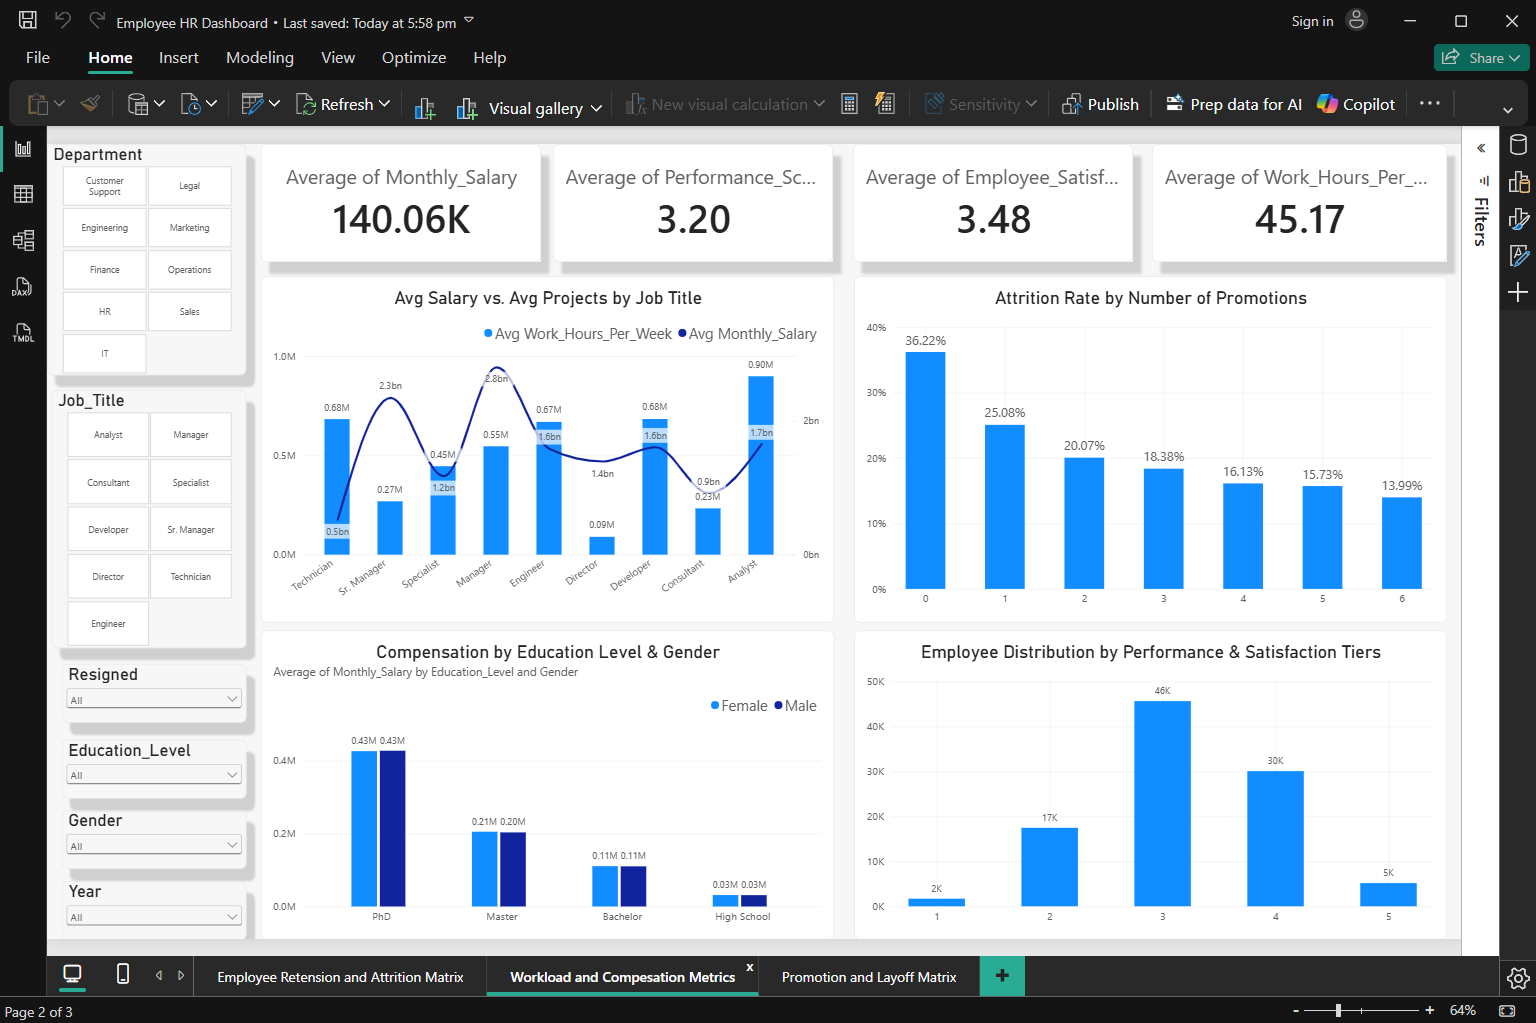

Layout of this report page (visuals, bound fields, positions):
{"tool":"powerbi","page":{"name":"Workload and Compesation Metrics","canvas":[1920,1080],"ordinal":1},"visuals":[{"type":"slicer","fields":{"Values":["employee_hr_db vw_fact_record.Resigned"]},"box":[20,706,250,80],"z":0},{"type":"slicer","fields":{"Values":["employee_hr_db vw_dim_employee.Department"]},"box":[0,0,270,314],"z":1000},{"type":"slicer","fields":{"Values":["employee_hr_db vw_dim_employee.Job_Title"]},"box":[6,334,264,350],"z":2000},{"type":"slicer","fields":{"Values":["employee_hr_db vw_dim_employee.Education_Level"]},"box":[20,808,250,80],"z":3000},{"type":"slicer","fields":{"Values":["employee_hr_db vw_dim_employee.Gender"]},"box":[20,904,250,80],"z":4000},{"type":"slicer","fields":{"Values":["employee_hr_db vw_fact_record.Hire_Date.Variation.Date Hierarchy.Year"]},"box":[20,1000,250,80],"z":5000},{"type":"cardVisual","fields":{"Data":["Avg(employee_hr_db vw_fact_record.Monthly_Salary)"]},"box":[290,0,380,160],"z":6000},{"type":"cardVisual","fields":{"Data":["Avg(employee_hr_db vw_fact_record.Performance_Score)"]},"box":[687.2,0,380,160],"z":7000},{"type":"cardVisual","fields":{"Data":["Avg(employee_hr_db vw_fact_workload.Work_Hours_Per_Week)"]},"box":[1500.1,0,400,160],"z":8000},{"type":"cardVisual","fields":{"Data":["Avg(employee_hr_db vw_fact_workload.Employee_Satisfaction_Score)"]},"box":[1095.1,0,380,160],"z":9000},{"type":"lineClusteredColumnComboChart","title":"Avg Salary vs. Avg Projects by Job Title","fields":{"Category":["employee_hr_db vw_dim_employee.Job_Title"],"Y":["Sum(employee_hr_db vw_fact_workload.Work_Hours_Per_Week)"],"Y2":["Sum(employee_hr_db vw_fact_record.Monthly_Salary)"]},"box":[290,180,778,470],"z":10000},{"type":"clusteredColumnChart","title":"Attrition Rate by Number of Promotions","fields":{"Category":["employee_hr_db vw_fact_record.Promotions"],"Y":["employee_hr_db vw_fact_record.Attrition Rate"]},"box":[1096,180,804,470],"z":11000},{"type":"clusteredColumnChart","title":"Compensation by Education Level & Gender","fields":{"Category":["employee_hr_db vw_dim_employee.Education_Level"],"Series":["employee_hr_db vw_dim_employee.Gender"],"Y":["Avg(employee_hr_db vw_fact_record.Monthly_Salary)"]},"box":[290,660,778,420],"z":12000},{"type":"clusteredColumnChart","title":"Employee Distribution by Performance & Satisfaction Tiers","fields":{"Category":["employee_hr_db vw_fact_record.Performance_Score"],"Y":["employee_hr_db vw_fact_record.Total_Headcounts"]},"box":[1096,660,804,420],"z":13000}]}

Visuals, with their boxes on the page's 1920x1080 design canvas (x1, y1, x2, y2). These are canvas units, not pixel positions in the 1536x1023 screenshot, which may show the page scaled, cropped or inside an application window:
slicer - employee_hr_db vw_fact_record.Resigned: [20,706,270,786]
slicer - employee_hr_db vw_dim_employee.Department: [0,0,270,314]
slicer - employee_hr_db vw_dim_employee.Job_Title: [6,334,270,684]
slicer - employee_hr_db vw_dim_employee.Education_Level: [20,808,270,888]
slicer - employee_hr_db vw_dim_employee.Gender: [20,904,270,984]
slicer - employee_hr_db vw_fact_record.Hire_Date.Variation.Date Hierarchy.Year: [20,1000,270,1080]
cardVisual - Avg(employee_hr_db vw_fact_record.Monthly_Salary): [290,0,670,160]
cardVisual - Avg(employee_hr_db vw_fact_record.Performance_Score): [687,0,1067,160]
cardVisual - Avg(employee_hr_db vw_fact_workload.Work_Hours_Per_Week): [1500,0,1900,160]
cardVisual - Avg(employee_hr_db vw_fact_workload.Employee_Satisfaction_Score): [1095,0,1475,160]
"Avg Salary vs. Avg Projects by Job Title" lineClusteredColumnComboChart: [290,180,1068,650]
"Attrition Rate by Number of Promotions" clusteredColumnChart: [1096,180,1900,650]
"Compensation by Education Level & Gender" clusteredColumnChart: [290,660,1068,1080]
"Employee Distribution by Performance & Satisfaction Tiers" clusteredColumnChart: [1096,660,1900,1080]
